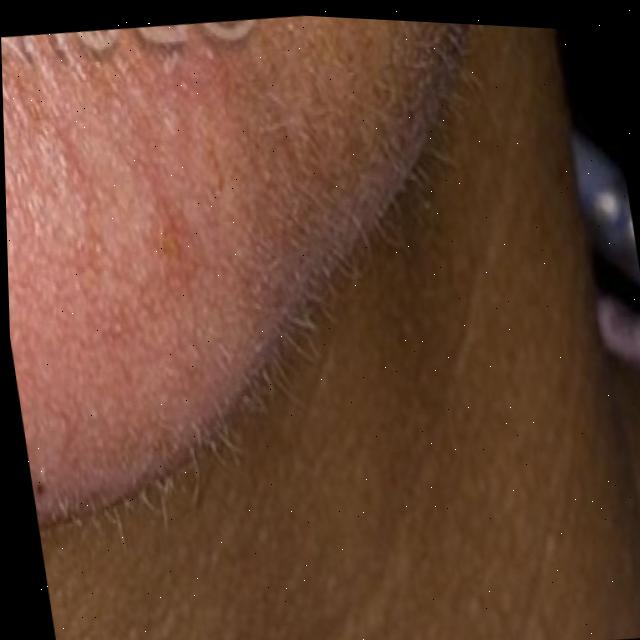Rosacea: (2, 78, 264, 394)
